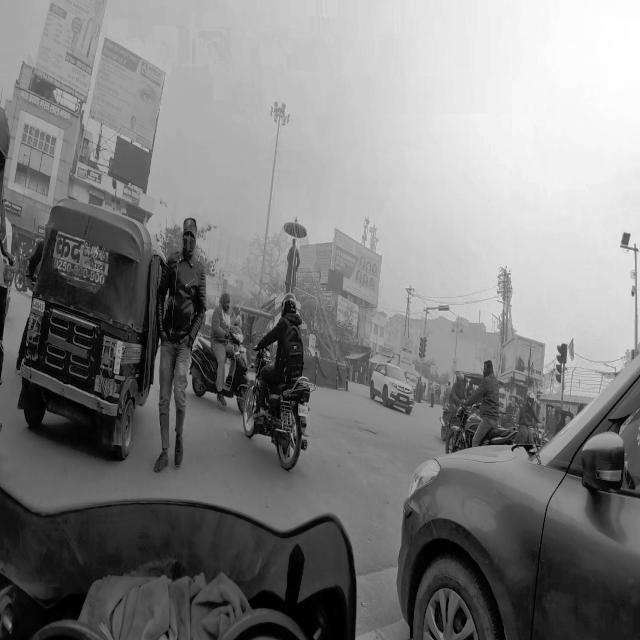Auto-Rickshaw: (18, 207, 174, 451)
Bike: (252, 298, 309, 477), (192, 307, 256, 401), (446, 370, 518, 453)
Car: (394, 354, 640, 637), (370, 359, 414, 417)
